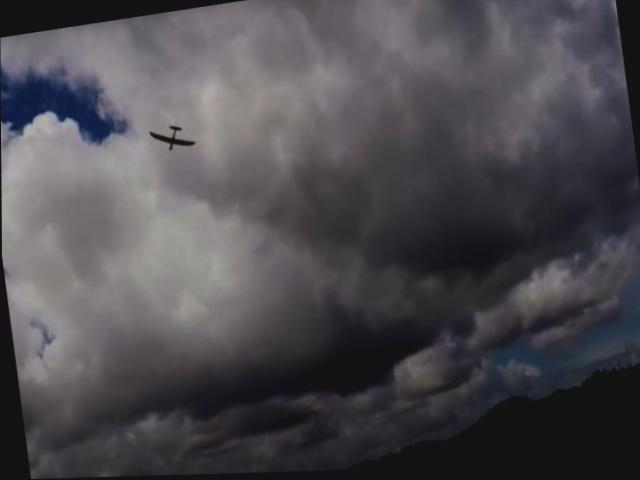iha: (146, 116, 200, 161)
